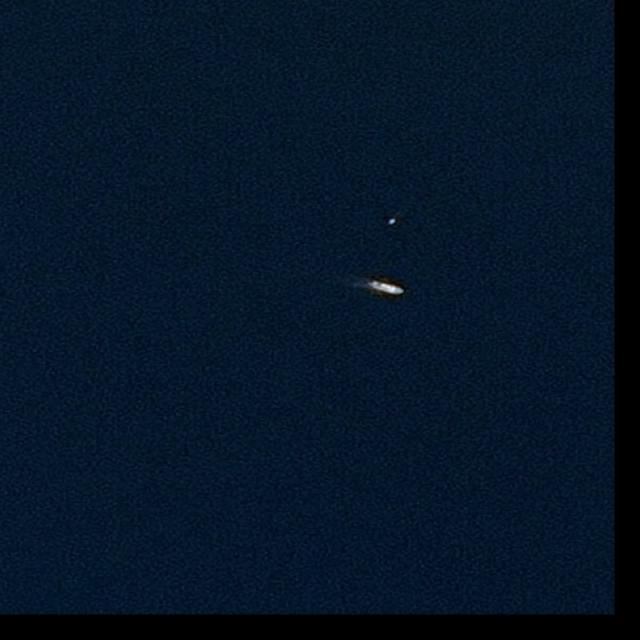ship: (370, 279, 404, 297), (388, 218, 396, 225)
